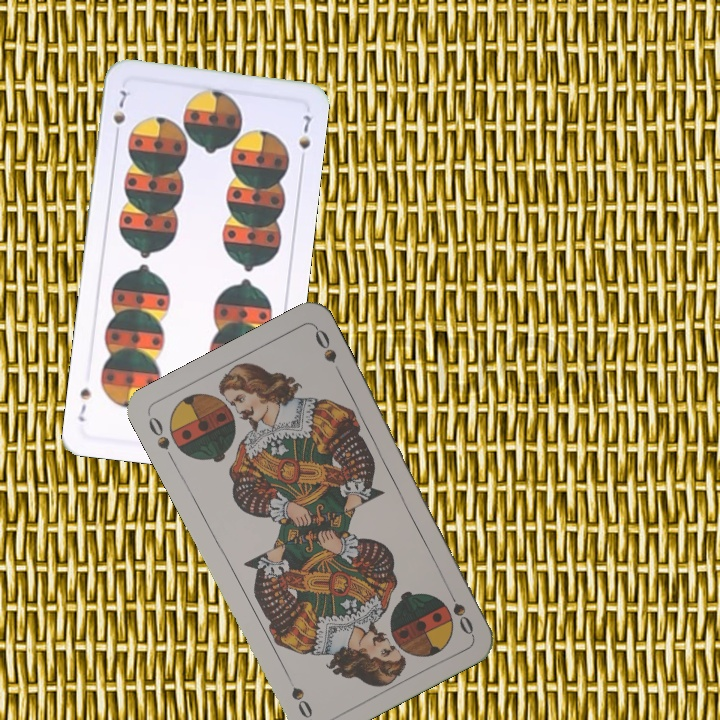S7: (109, 86, 129, 142)
SO: (442, 582, 476, 638), (144, 412, 178, 466)
